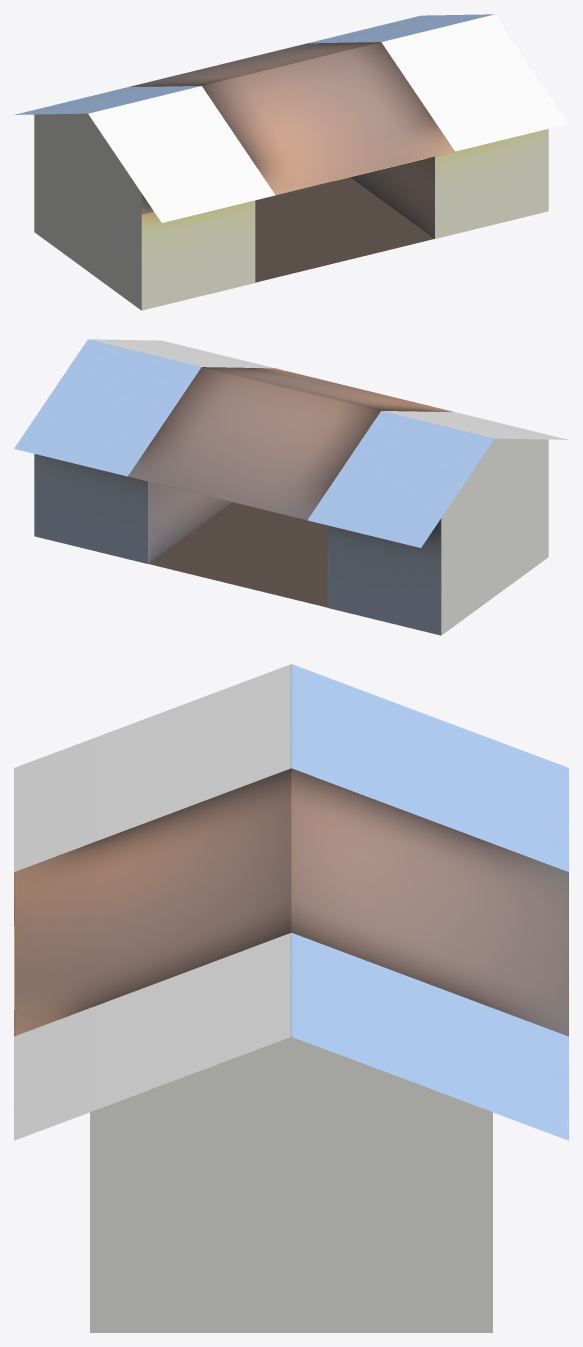
Rendered from entrance2.glb.
The picture shows the model from 3 angles, top to bottom: view 1: azimuth 30°, elevation 25°; view 2: azimuth 150°, elevation 25°; view 3: azimuth 270°, elevation 25°; orthographic projection. The views are drawn at different scales.
Parts seen in each view (by area): view 1: Cube.002 FIXE; view 2: Cube.002 FIXE; view 3: Cube.002 FIXE.
Boxes of the visible parts, box(x1,y1,x2,y2) form: Cube.002 FIXE: box(14, 14, 568, 310); Cube.002 FIXE: box(14, 339, 568, 635); Cube.002 FIXE: box(14, 664, 568, 1332).
Size of the model in its own units: 10.21 by 3.79 by 6.42.
Materials: 2 (1 with a texture image).
